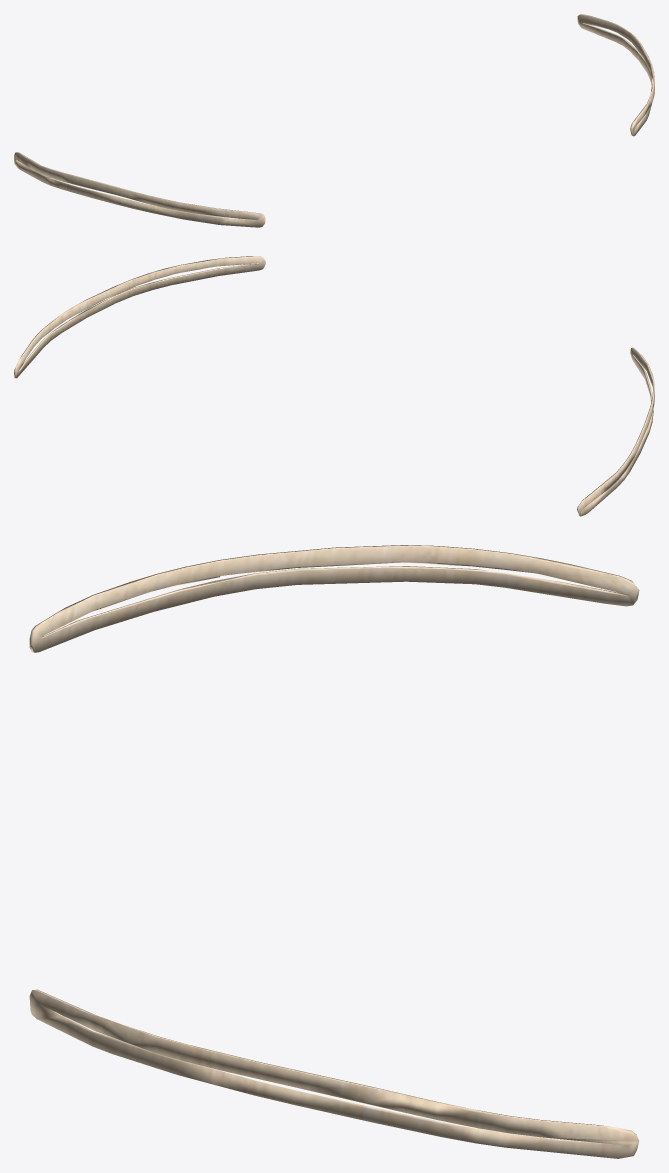
Rendered from Besom_Pocket_n.glb.
3 renders of one model, top to bottom at view 1: azimuth 30°, elevation 25°; view 2: azimuth 150°, elevation 25°; view 3: azimuth 270°, elevation 25°, orthographic. The views are drawn at different scales.
Visible parts, largest first — view 1: Besom_Pocket; view 2: Besom_Pocket; view 3: Besom_Pocket.
Boxes of the visible parts, x1,y1,x2,y2 form: Besom_Pocket: (14,14,654,227); Besom_Pocket: (14,256,654,516); Besom_Pocket: (29,545,639,1158).
Size of the model in its own units: 0.0447 by 0.00282 by 0.0204.
Materials: 1 (1 with a texture image).
